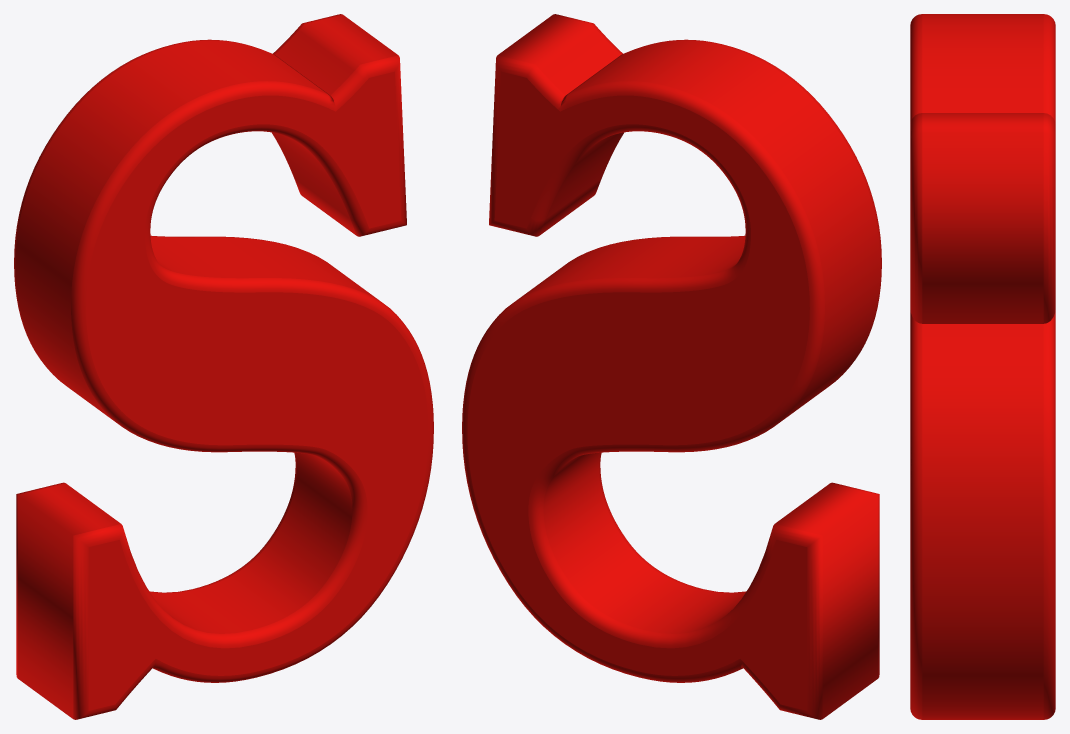
The model's file is capital_s.fbx.
3 views of the same model, side by side, from view 1: azimuth 30°, elevation 25°; view 2: azimuth 150°, elevation 25°; view 3: azimuth 270°, elevation 25° (orthographic). The views are drawn at different scales.
Visible parts, largest first — view 1: Text; view 2: Text; view 3: Text.
Part boxes in pixels (x1,y1,x2,y2): Text: [14, 14, 433, 719]; Text: [462, 14, 881, 719]; Text: [910, 14, 1055, 719].
Bounding box in the file's own units: 144 × 227 × 45.87.
